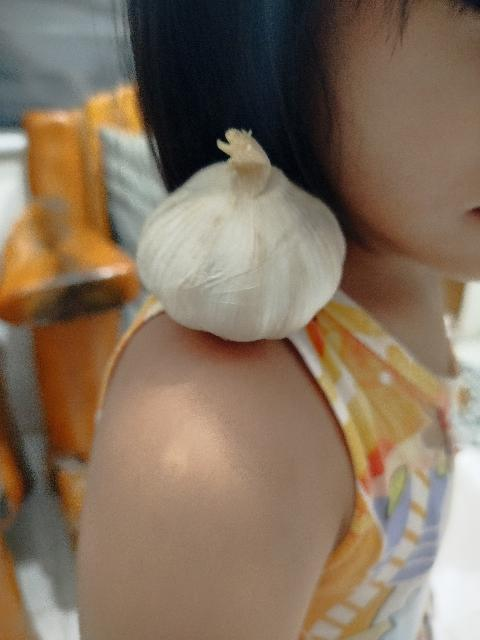garlic: (135, 128, 347, 342)
